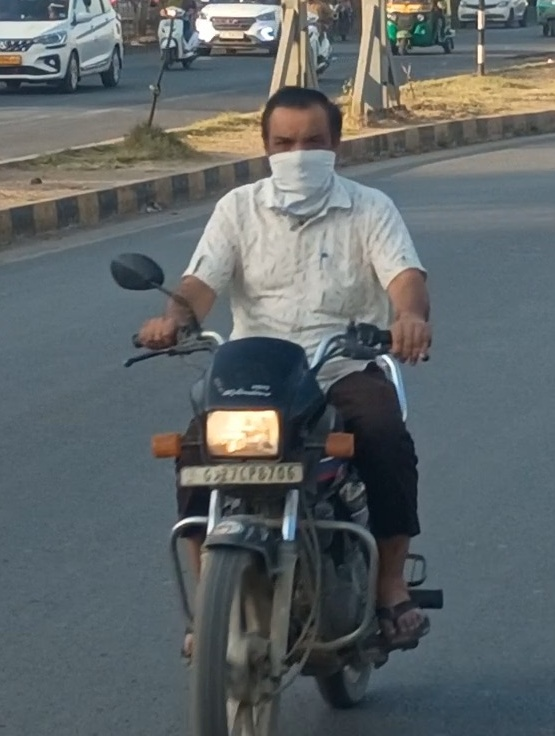BikeWithRider: (97, 79, 457, 736)
NoHelmet: (245, 79, 351, 208)
